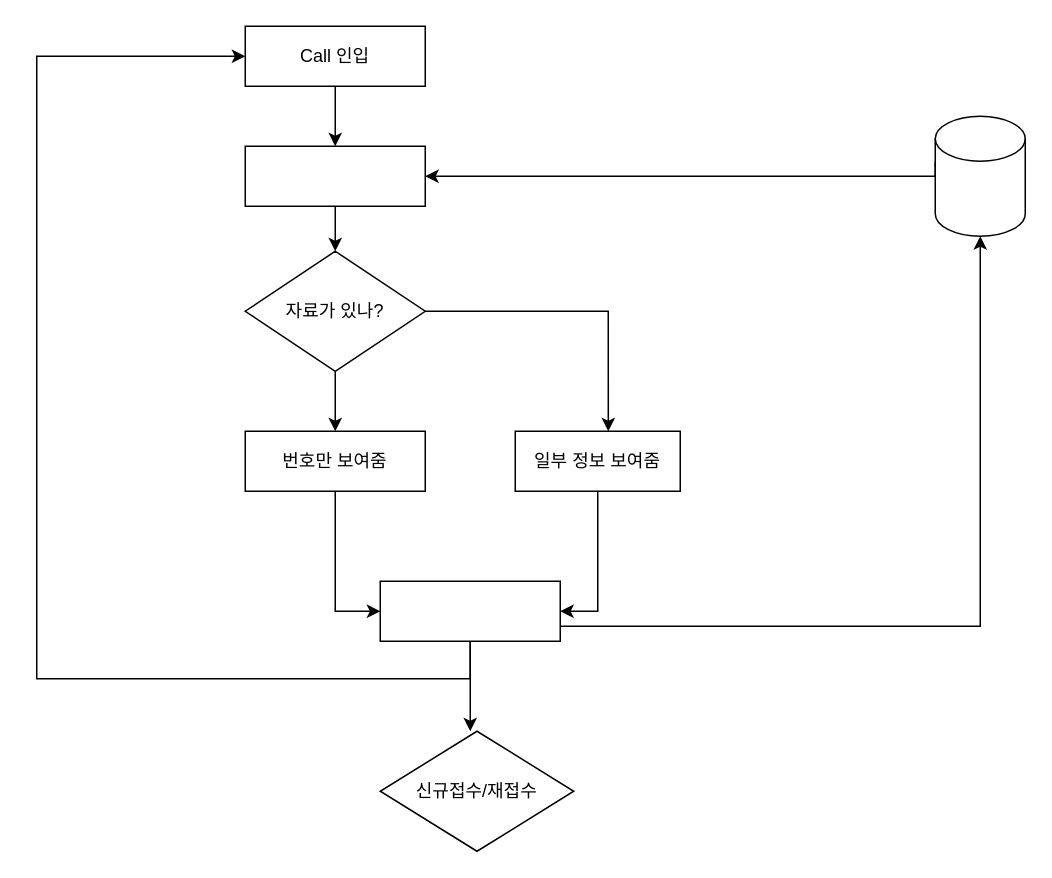
Some shapes in this 1052 by 878 pixel diagram are drawn without their labels. Here are the shapes that lost their labels. From the top down, the centre of each, then its label:
At [334,175]: "전화번호 조회".
At [469,610]: "CID수신내역에 저장".
